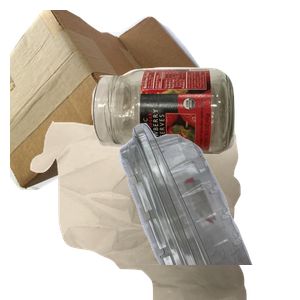cardboard: (10, 10, 206, 190)
glass: (89, 65, 300, 212)
plastic: (71, 120, 300, 300)
trash: (28, 120, 267, 300)
